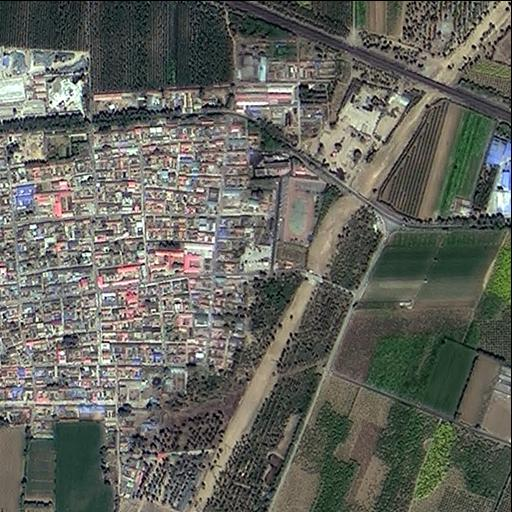school: (272, 173, 330, 272)
